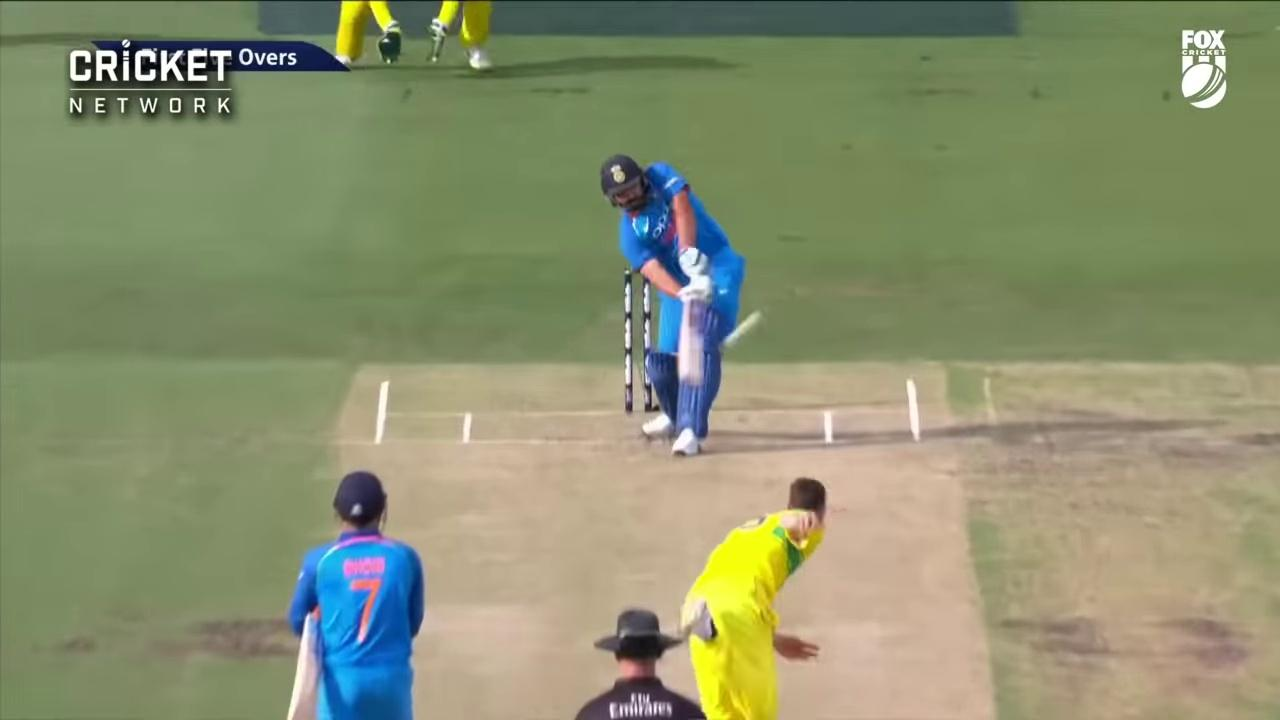batsman: (599, 155, 746, 455)
